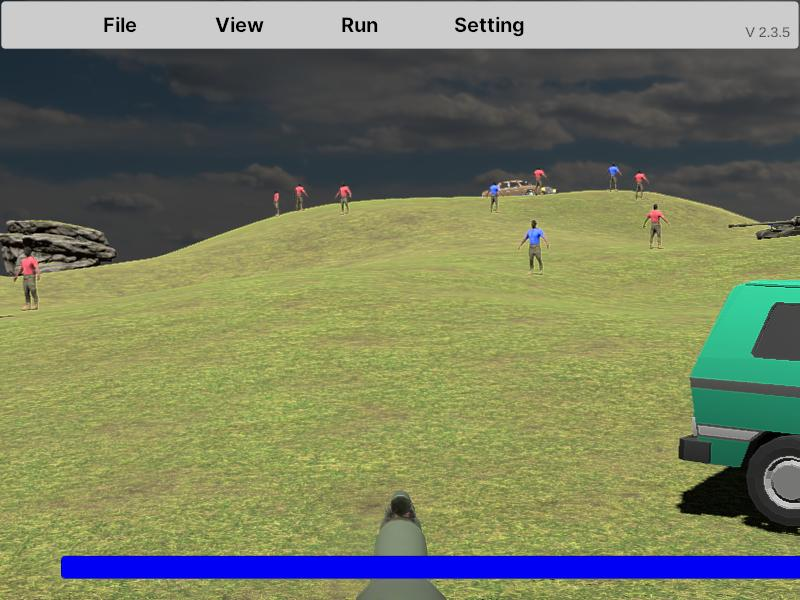Human: (519, 219, 549, 277), (14, 248, 41, 311), (642, 203, 670, 250)
car: (681, 274, 800, 536)
